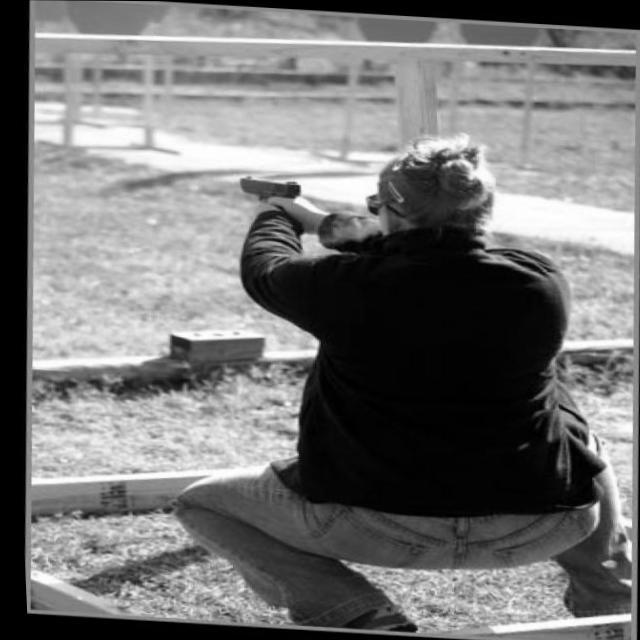weapon: (235, 174, 308, 215)
